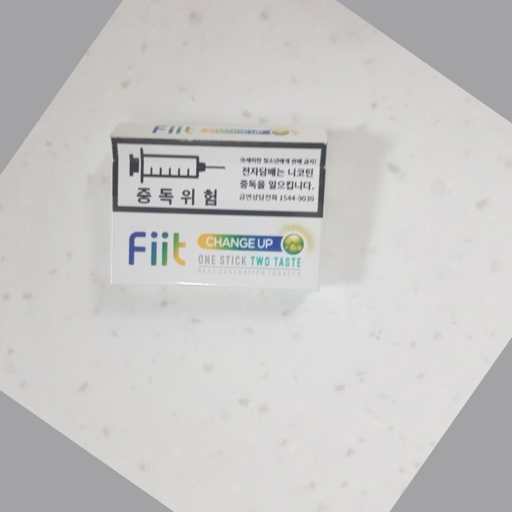Paper_0: (102, 120, 332, 300)
